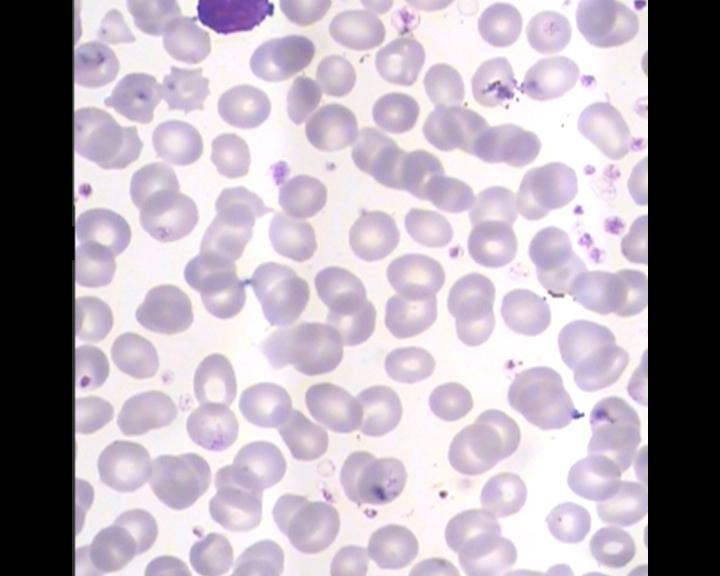baso: (194, 0, 276, 36)
